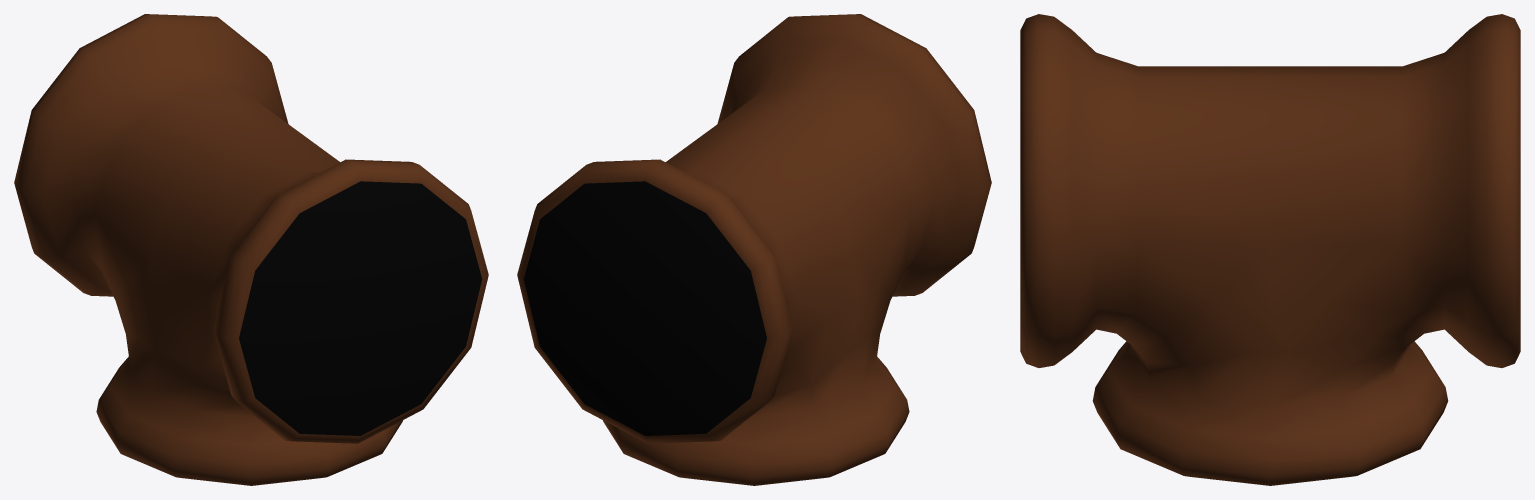
File: Pipe_T_1m.fbx
The picture shows the model from 3 angles, left to right: view 1: azimuth 30°, elevation 25°; view 2: azimuth 150°, elevation 25°; view 3: azimuth 270°, elevation 25°; orthographic projection. The views are drawn at different scales.
Parts seen in each view (by area): view 1: Pipe_T_1m; view 2: Pipe_T_1m; view 3: Pipe_T_1m.
Part boxes in pixels (x1,y1,x2,y2): Pipe_T_1m: (14, 14, 488, 485); Pipe_T_1m: (517, 14, 991, 485); Pipe_T_1m: (1020, 14, 1520, 485).
Bounding box in the file's own units: 71.06 × 85.53 × 100.
